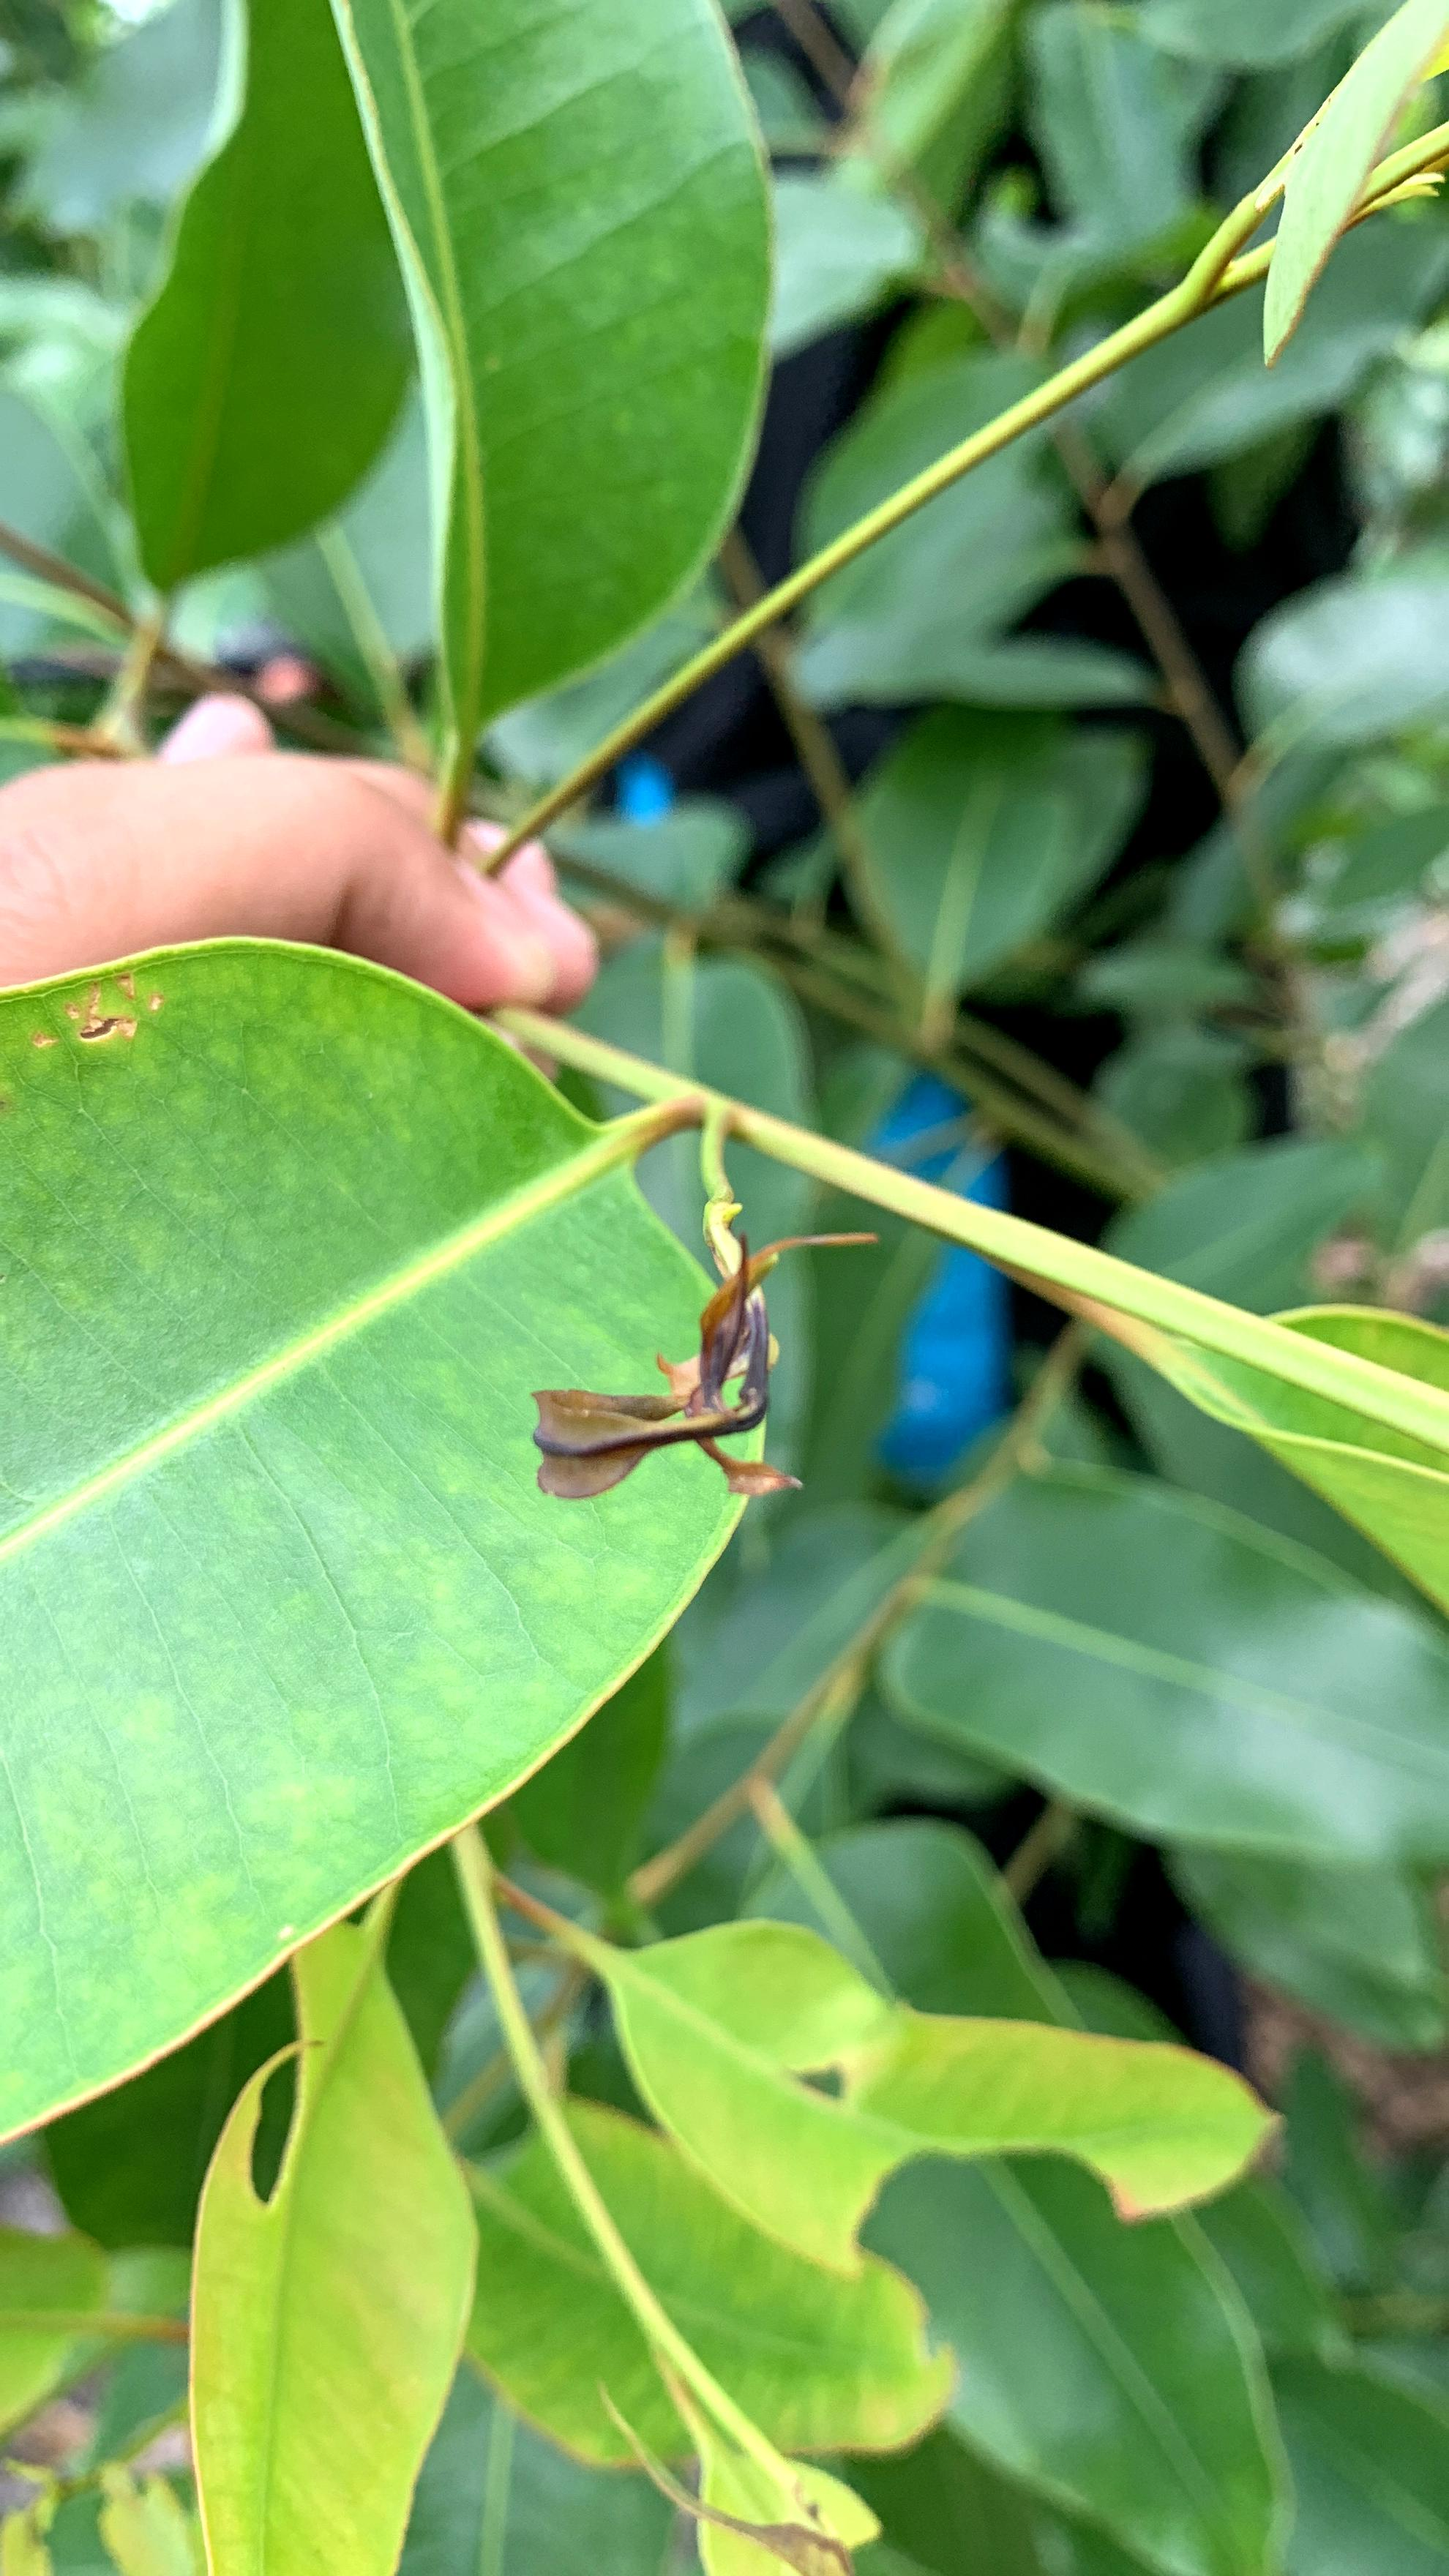Helopeltis-Withered Sprout: (494, 1231, 836, 1524)
